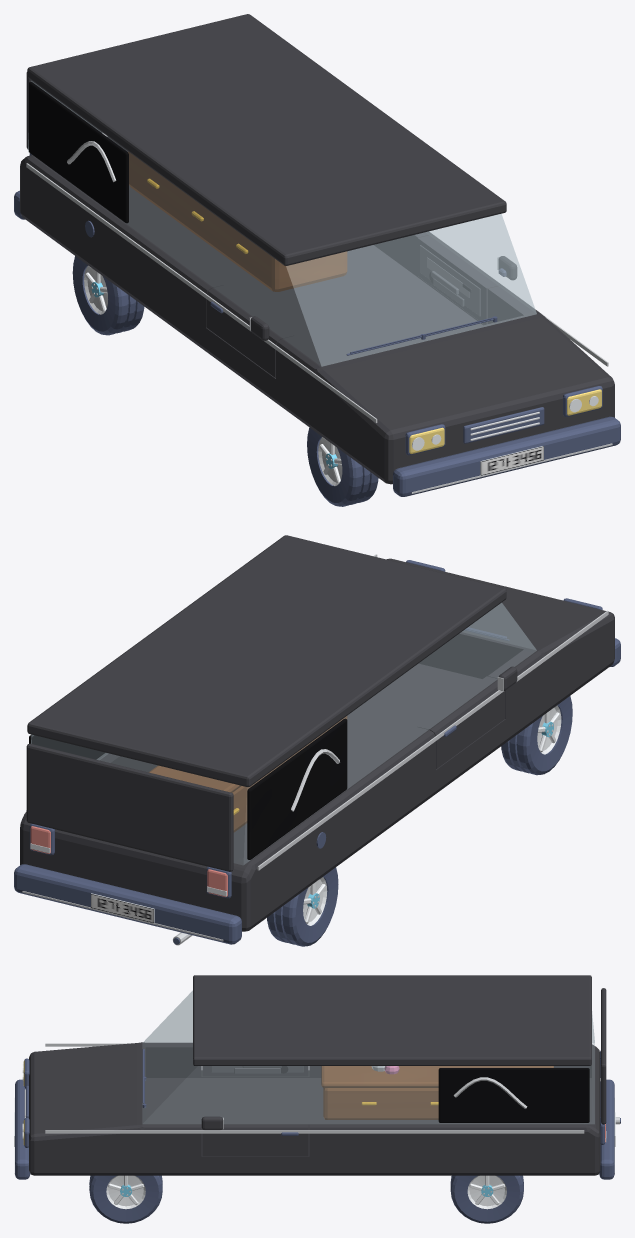
Rendered from V06_hearse_v2.glb.
3 renders of one model, top to bottom at view 1: azimuth 30°, elevation 25°; view 2: azimuth 150°, elevation 25°; view 3: azimuth 270°, elevation 25°, orthographic. The views are drawn at different scales.
Parts seen in each view (by area): view 1: Body, Glass, RearQuarters, Coffin, Bumper_Front, Door_R, Wheel_RR, Wheel_FR, Door_L, DoorDetail_L, Grille, Headlight_-1 (+2 smaller); view 2: Body, Trunk, Glass, RearQuarters, Bumper_Rear, Door_R, Wheel_FR, Wheel_RR, Coffin, LicensePlate_Rear, Taillight_-1, Taillight_1; view 3: Body, Glass, RearQuarters, Coffin, Door_L, Wheel_RL, Wheel_FL, Bumper_Rear, Bumper_Front, Trunk, DoorDetail_R, Door_R.
Boxes of the visible parts, x1,y1,x2,y2 form: Body: (20,14,614,484); Glass: (28,81,536,366); RearQuarters: (26,82,608,422); Coffin: (128,152,347,291); Bumper_Front: (393,416,620,496); Door_R: (206,285,293,377); Wheel_RR: (72,256,144,335); Wheel_FR: (307,427,378,506); Door_L: (417,235,502,324); DoorDetail_L: (420,245,480,316); Grille: (463,407,544,443); Headlight_-1: (405,424,445,455); Body: (20,535,614,931); Trunk: (26,743,233,871); Glass: (31,603,536,864); RearQuarters: (26,554,608,870); Bumper_Rear: (14,864,241,944); Door_R: (418,676,505,768); Wheel_FR: (501,696,572,775); Wheel_RR: (267,867,338,946); Coffin: (149,716,347,832); LicensePlate_Rear: (91,893,154,922); Taillight_-1: (206,866,231,898); Taillight_1: (29,823,54,855); Body: (29,975,600,1175); Glass: (142,990,594,1123); RearQuarters: (45,1043,589,1133); Coffin: (321,1066,553,1119); Door_L: (202,1120,308,1156); Wheel_RL: (450,1175,523,1223); Wheel_FL: (89,1175,162,1223); Bumper_Rear: (599,1079,614,1179); Bumper_Front: (14,1079,30,1179); Trunk: (601,988,606,1124); DoorDetail_R: (211,1066,303,1073); Door_R: (202,1066,308,1076).
Size of the model in its own units: 2.11 by 1.71 by 5.63.
12 materials, 1 textured.
